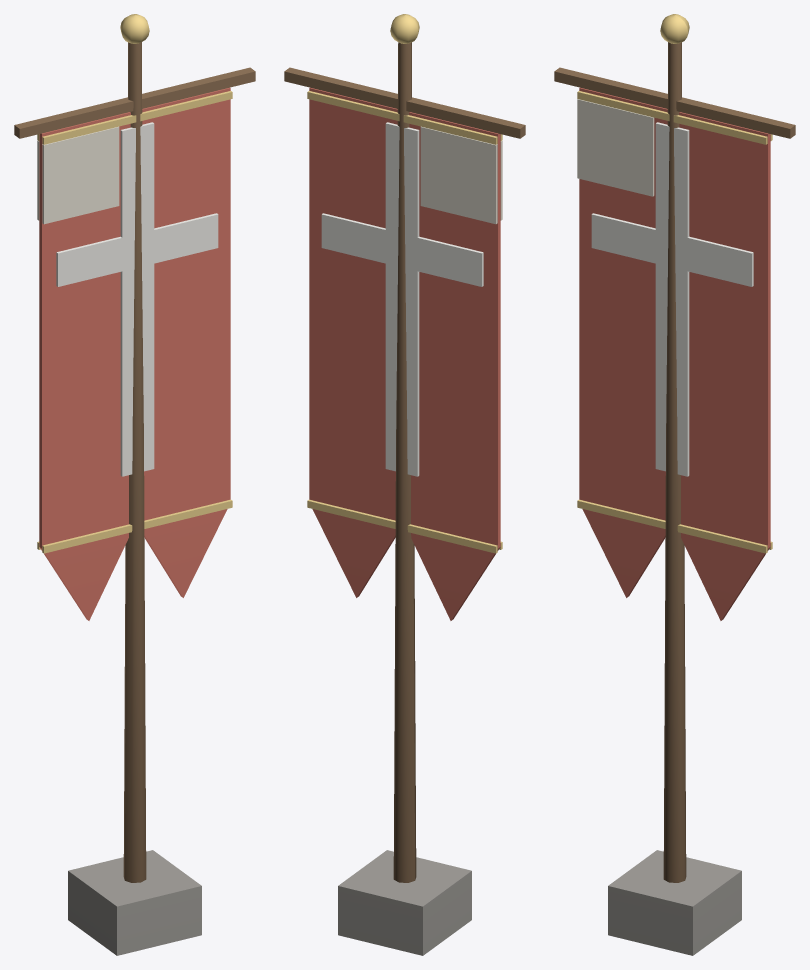
File: banner_england.glb
3 renders of one model, left to right at view 1: azimuth 30°, elevation 25°; view 2: azimuth 150°, elevation 25°; view 3: azimuth 330°, elevation 25°, orthographic.
Visible parts, largest first — view 1: G_banner_england; view 2: G_banner_england; view 3: G_banner_england.
Part boxes in pixels (left/top/right/bottom): G_banner_england: left=14, top=14, right=255, bottom=955; G_banner_england: left=284, top=14, right=525, bottom=955; G_banner_england: left=554, top=14, right=795, bottom=955.
Size of the model in its own units: 2.5 by 9.24 by 0.9.
